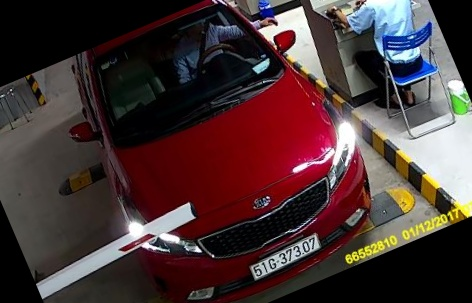plate: (251, 226, 329, 281)
